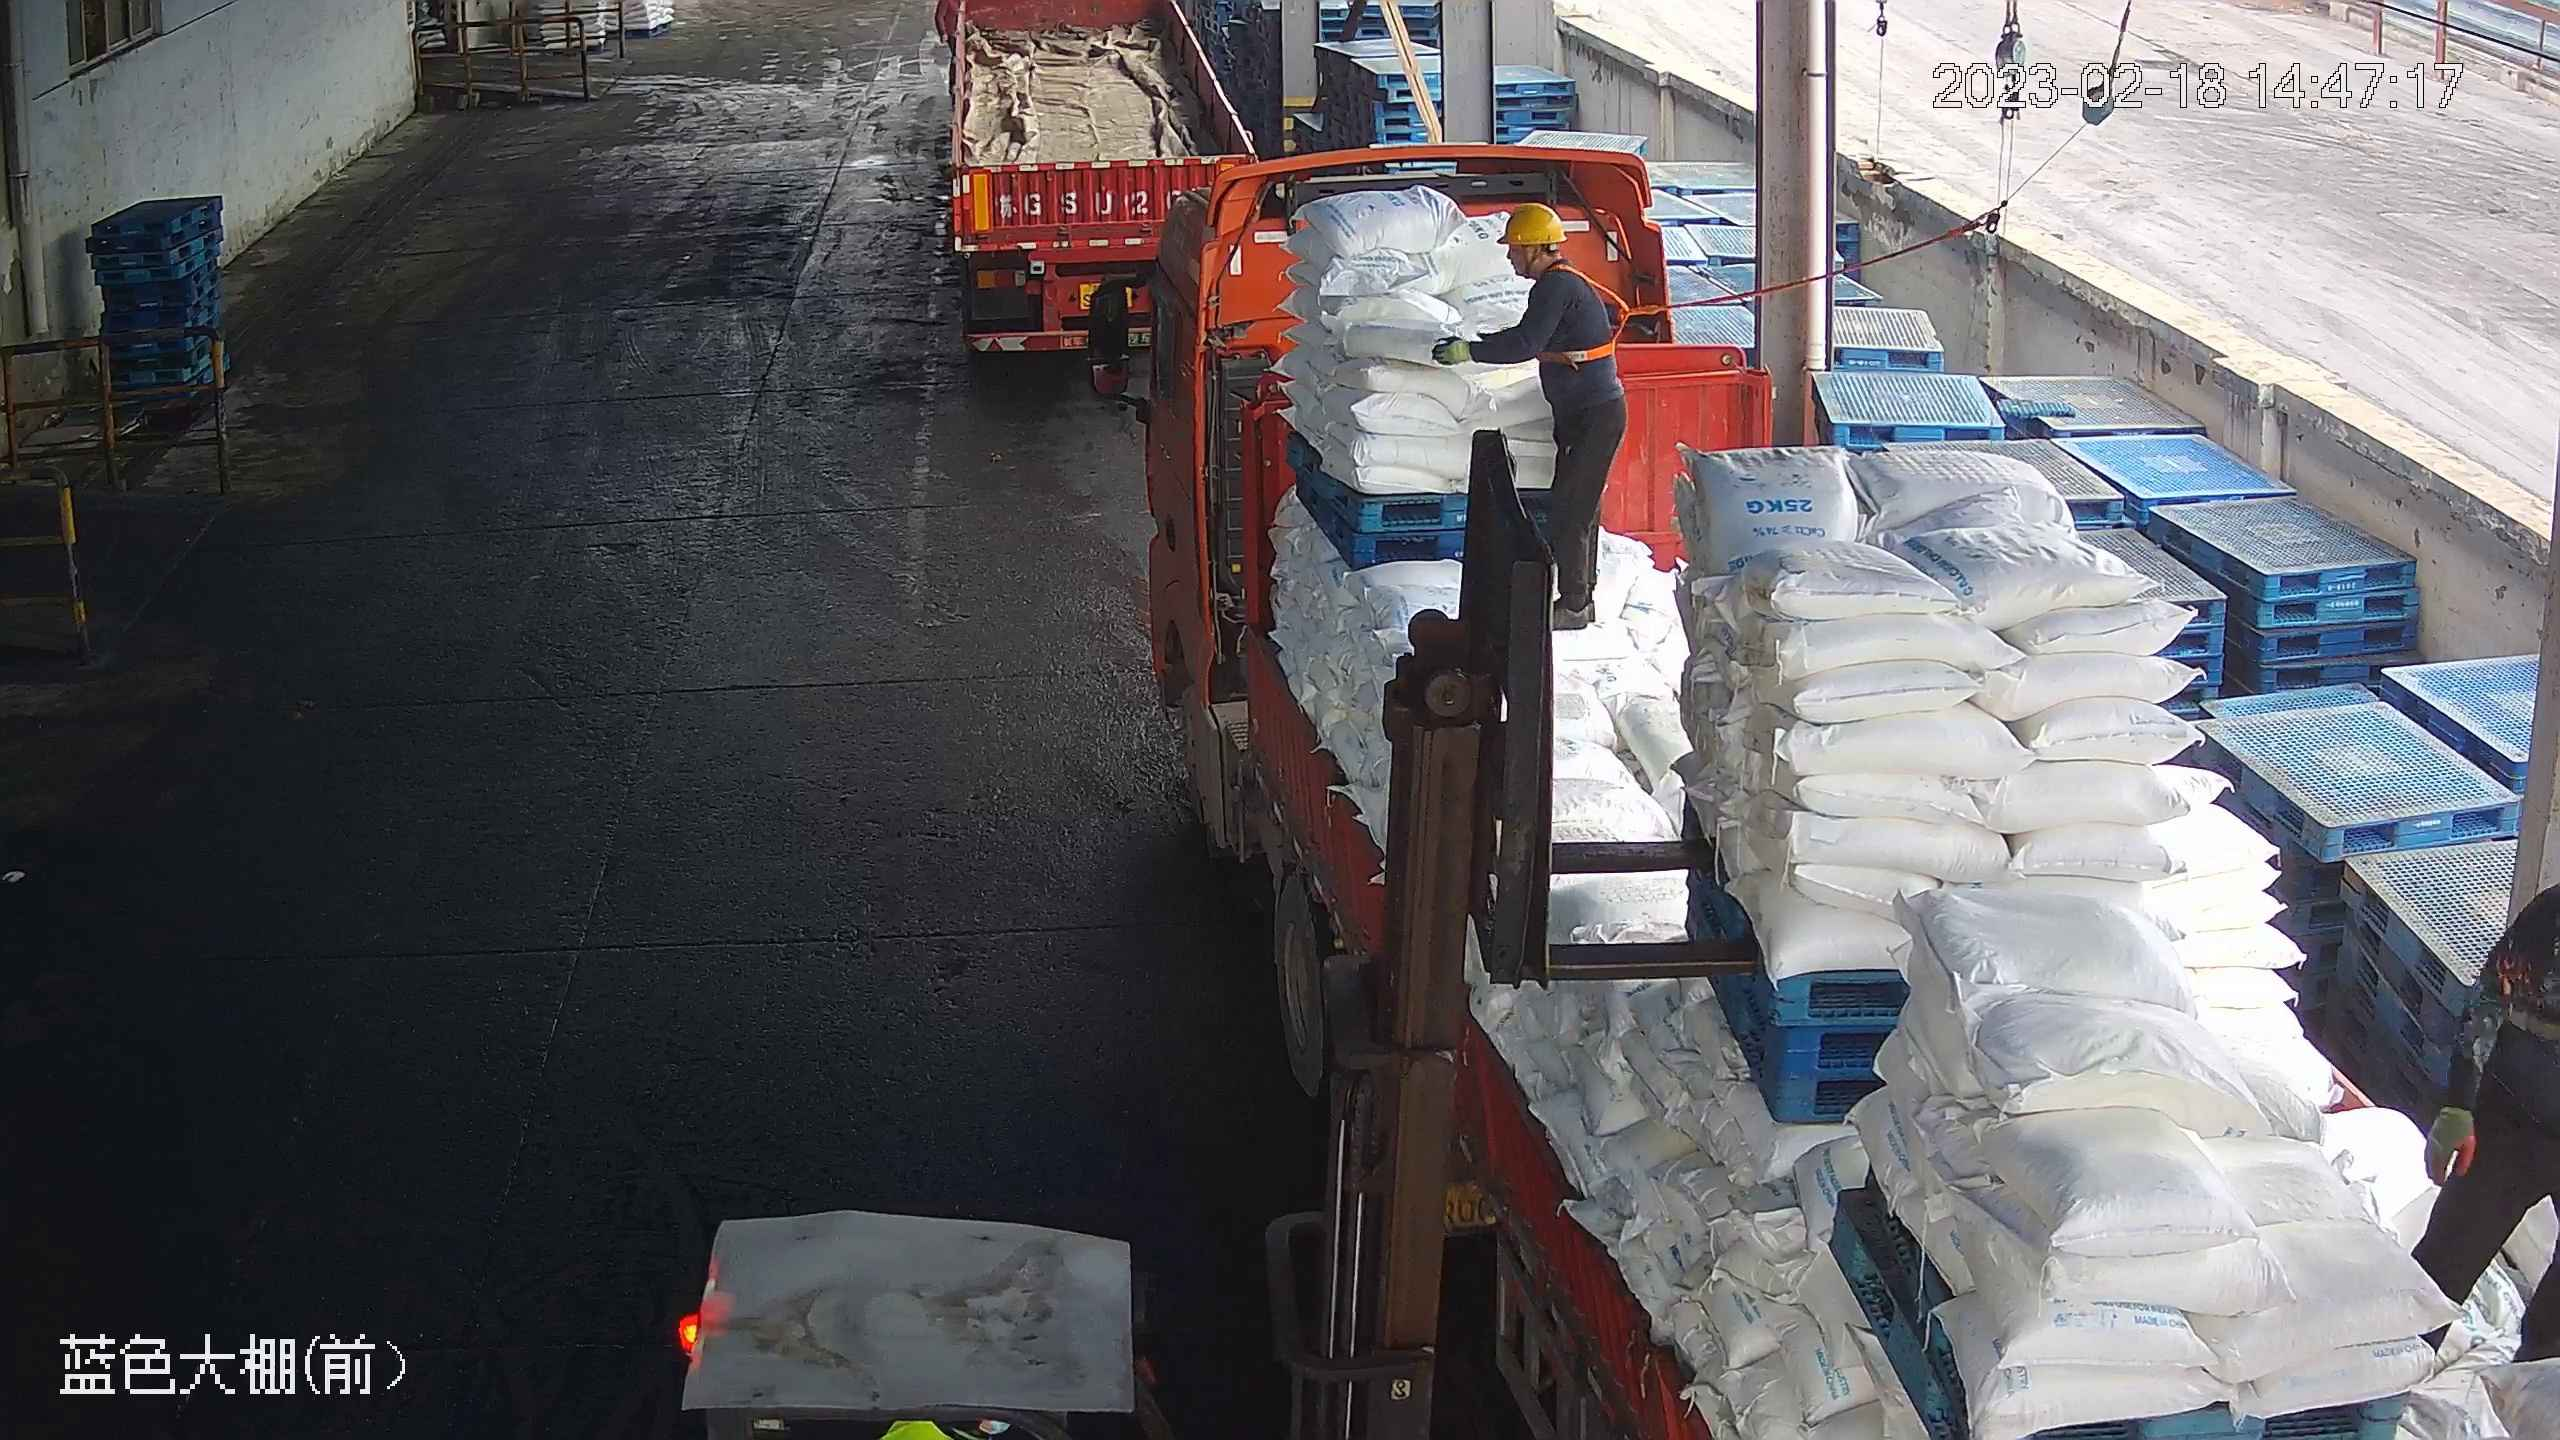belt: (1540, 266, 1643, 368)
head: (1492, 201, 1607, 322)
helmet: (1496, 200, 1570, 248)
people: (1429, 200, 1631, 634), (2402, 817, 2559, 1372)
truck: (1084, 138, 2556, 1438), (937, 1, 1261, 362)
